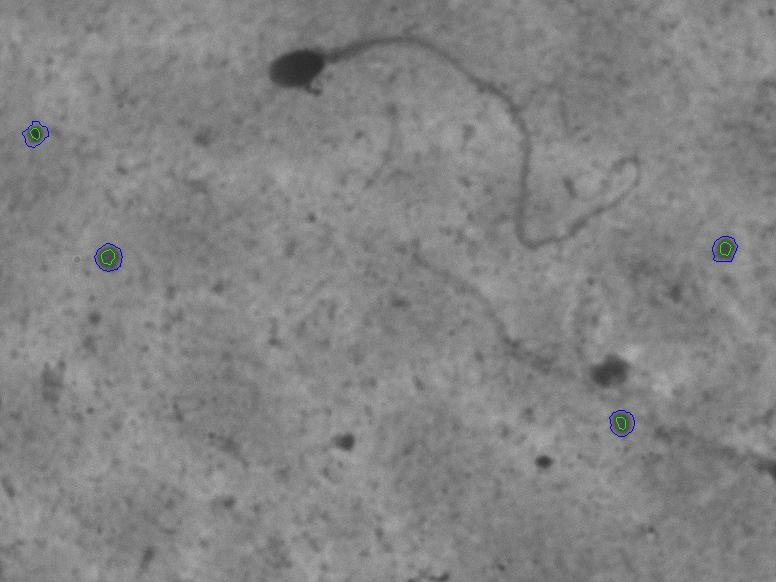Normal: (253, 13, 667, 271)
